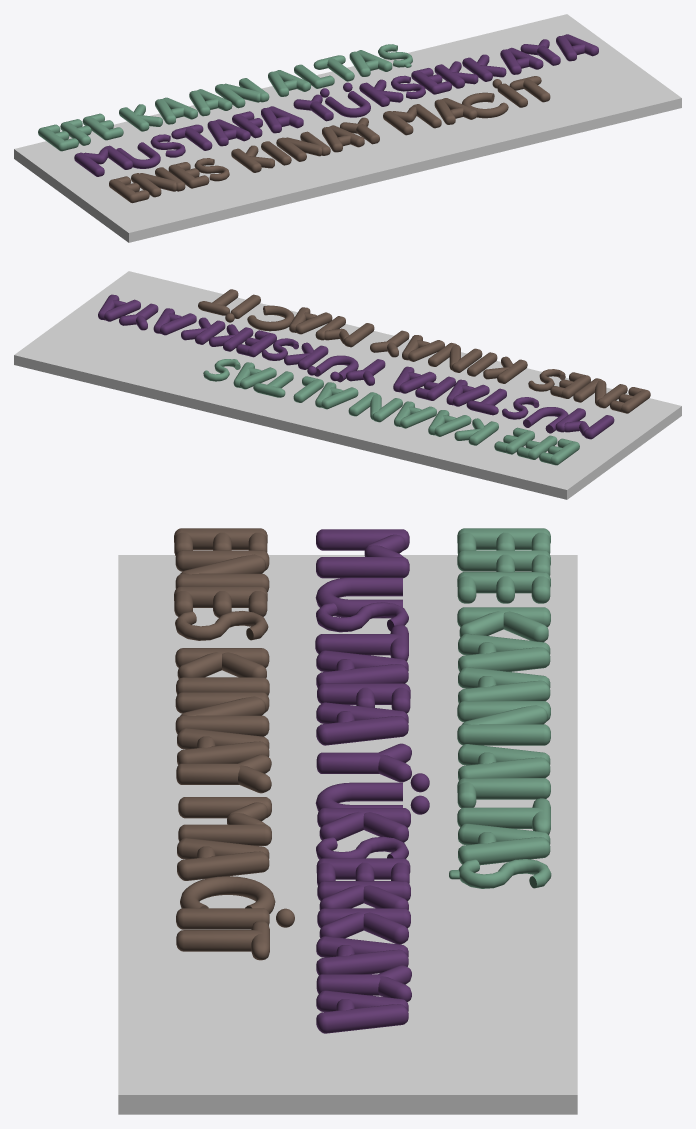
File: Names.glb
The picture shows the model from 3 angles, top to bottom: view 1: azimuth 30°, elevation 25°; view 2: azimuth 150°, elevation 25°; view 3: azimuth 270°, elevation 25°; orthographic projection. The views are drawn at different scales.
Visible parts, largest first — view 1: Box001, ChamferBox083 (×7), ChamferBox043 (×6), ChamferBox001 (×6), Circle001 (×2), Cylinder002 (×2), Circle003, Cylinder004, Cylinder001; view 2: Box001, ChamferBox043 (×10), ChamferBox083 (×9), ChamferBox001 (×8), Circle001 (×2), Cylinder002 (×2), Circle003, Cylinder001, Cylinder004; view 3: Box001, ChamferBox083 (×19), ChamferBox043 (×18), ChamferBox001 (×17), Circle001 (×2), Cylinder002 (×2), ChamferBox062 (×3), Circle003, Cylinder001, Cylinder004, ChamferBox019.
Boxes of the visible parts, bbox=[...] form: Box001: bbox=[14, 14, 681, 242]; ChamferBox083 (×7): bbox=[109, 83, 527, 203]; ChamferBox043 (×6): bbox=[74, 57, 492, 176]; ChamferBox001 (×6): bbox=[38, 64, 322, 151]; Circle001 (×2): bbox=[116, 91, 370, 168]; Cylinder002 (×2): bbox=[150, 75, 425, 157]; Circle003: bbox=[462, 92, 508, 118]; Cylinder004: bbox=[194, 158, 229, 181]; Cylinder001: bbox=[378, 44, 412, 67]; Box001: bbox=[14, 271, 681, 499]; ChamferBox043 (×10): bbox=[104, 299, 614, 439]; ChamferBox083 (×9): bbox=[230, 294, 650, 413]; ChamferBox001 (×8): bbox=[240, 367, 579, 465]; Circle001 (×2): bbox=[314, 355, 568, 433]; Cylinder002 (×2): bbox=[261, 338, 539, 419]; Circle003: bbox=[247, 305, 294, 331]; Cylinder001: bbox=[203, 359, 240, 381]; Cylinder004: bbox=[528, 369, 565, 391]; Box001: bbox=[118, 555, 577, 1114]; ChamferBox083 (×19): bbox=[174, 528, 271, 951]; ChamferBox043 (×18): bbox=[315, 529, 410, 1033]; ChamferBox001 (×17): bbox=[457, 528, 550, 865]; Circle001 (×2): bbox=[315, 577, 402, 811]; Cylinder002 (×2): bbox=[316, 602, 408, 859]; ChamferBox062 (×3): bbox=[319, 811, 408, 944]; Circle003: bbox=[180, 876, 275, 913]; Cylinder001: bbox=[458, 859, 551, 888]; Cylinder004: bbox=[175, 611, 268, 640]; ChamferBox019: bbox=[503, 611, 548, 642].
Bounding box in the file's own units: 3.41 × 0.1931 × 1.23.
